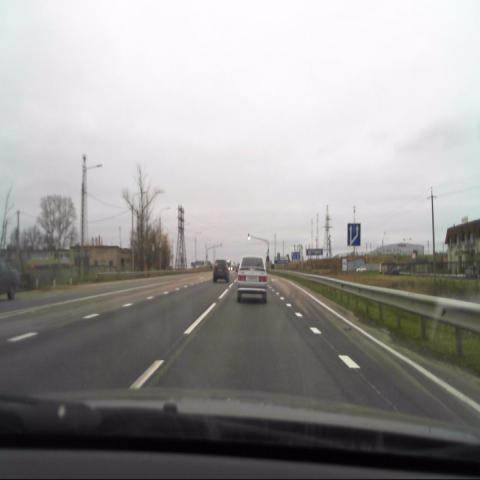5_15_3: (347, 223, 361, 246)
